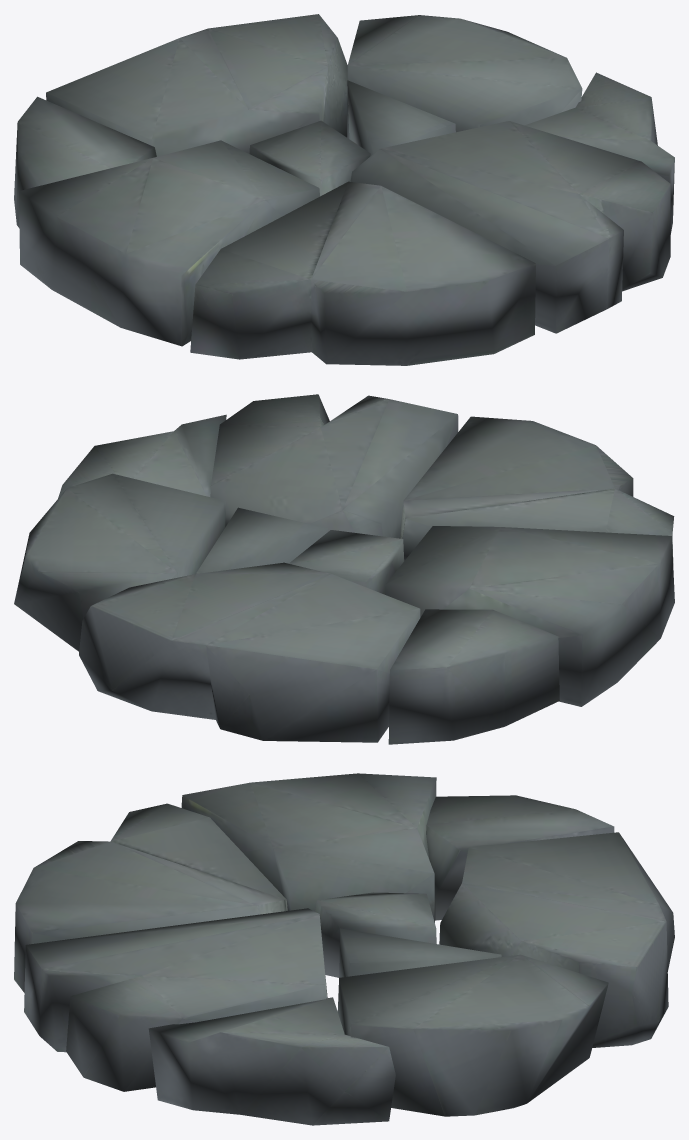
The model's file is rock_flat.glb.
The picture shows the model from 3 angles, top to bottom: view 1: azimuth 30°, elevation 25°; view 2: azimuth 150°, elevation 25°; view 3: azimuth 270°, elevation 25°; orthographic projection. The views are drawn at different scales.
Bounding box in the file's own units: 0.9536 × 0.1396 × 0.9609.
1 material, 1 textured.
